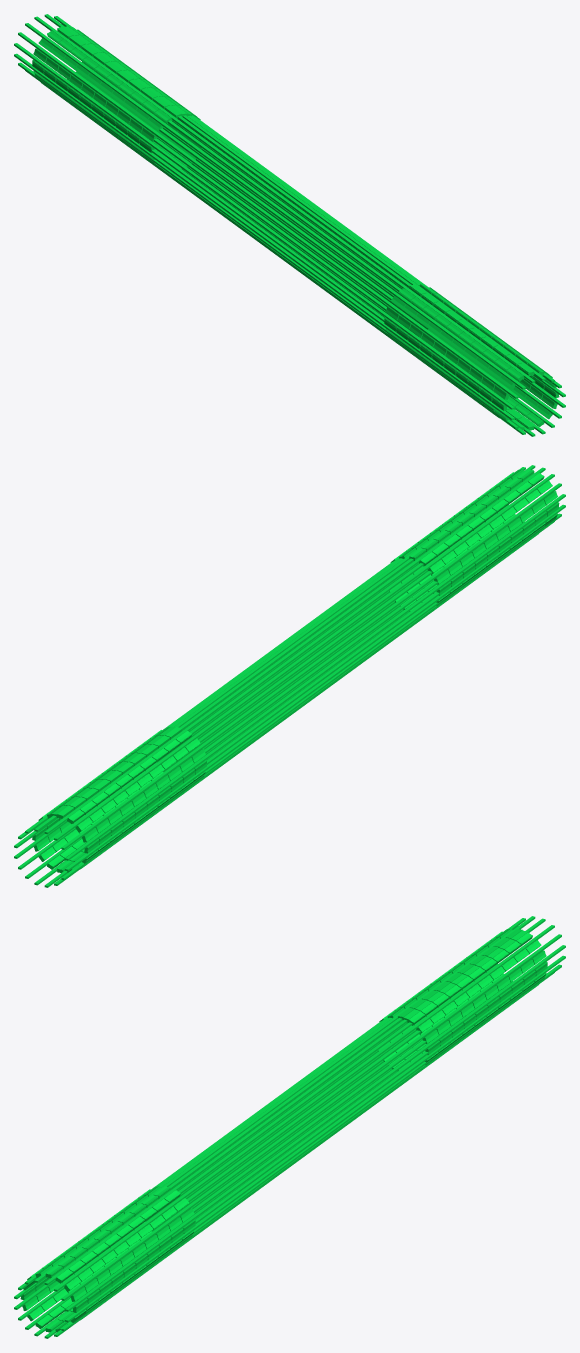
Rendered from tunneltest6_cam_action.gltf.
3 views of the same model, one above another, from view 1: azimuth 30°, elevation 25°; view 2: azimuth 150°, elevation 25°; view 3: azimuth 330°, elevation 25° (orthographic).
Visible parts, largest first — view 1: Cylinder; view 2: Cylinder; view 3: Cylinder.
Boxes of the visible parts, <box> form: Cylinder: <box>14,14,565,436</box>; Cylinder: <box>14,465,565,887</box>; Cylinder: <box>14,916,565,1338</box>.
Size of the model in its own units: 2.14 by 2.14 by 33.06.
